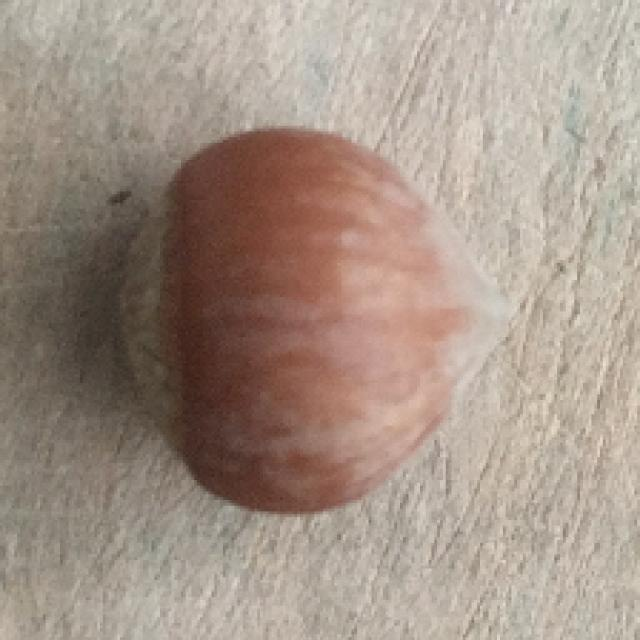qualityHazelnut: (108, 126, 512, 518)
